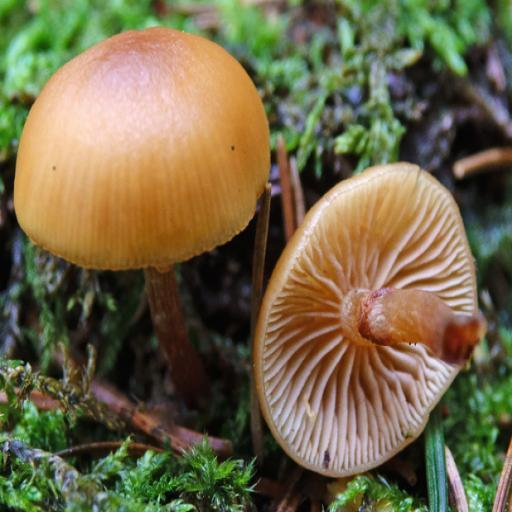mushroom: (268, 161, 486, 480), (9, 29, 277, 282)
